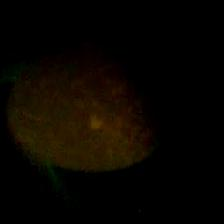fertile: (6, 38, 187, 172)
